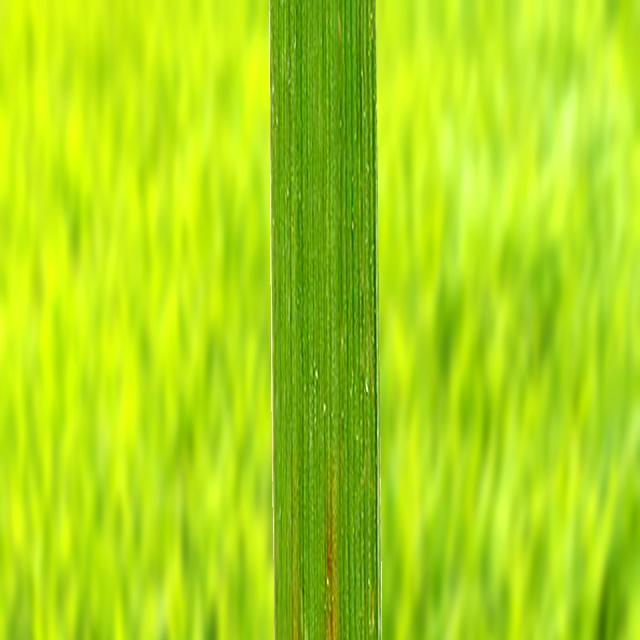NBS: (328, 534, 336, 640)
